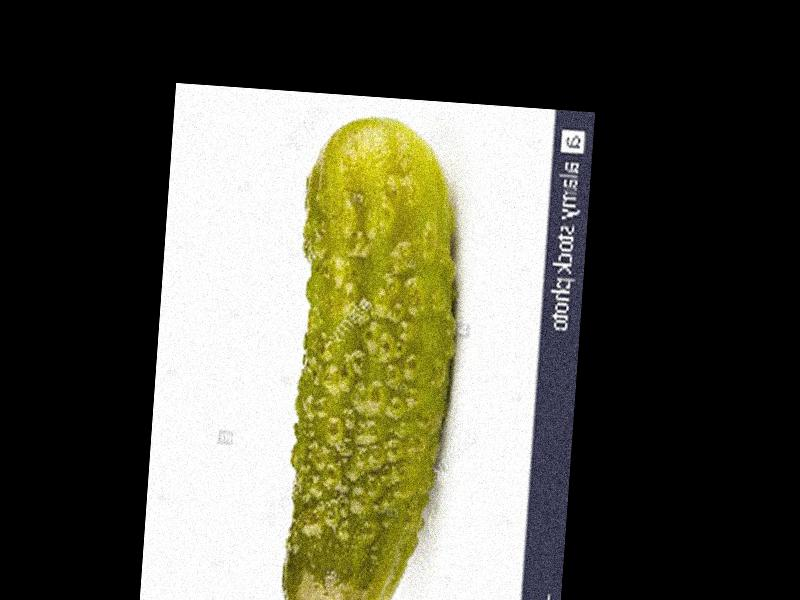Cucumber: (274, 112, 470, 600)
